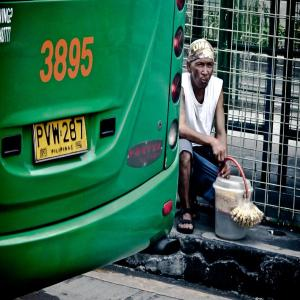Vehicle-registration-plate: (33, 115, 89, 165)
